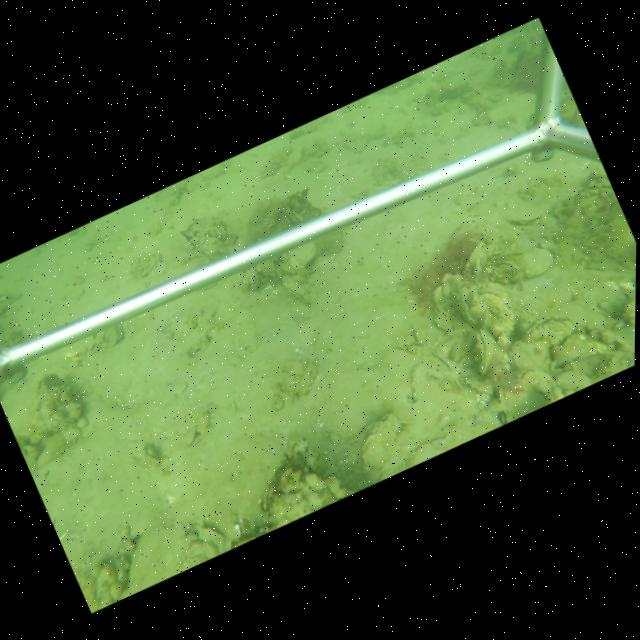Oyster-Closed: (260, 442, 345, 526), (361, 411, 403, 471), (472, 287, 516, 335), (509, 339, 554, 371), (519, 315, 574, 341), (515, 246, 556, 279), (472, 330, 494, 376), (282, 275, 313, 306), (464, 240, 487, 277)
Oyster-Indeterminate: (500, 200, 546, 227), (193, 525, 229, 543)
